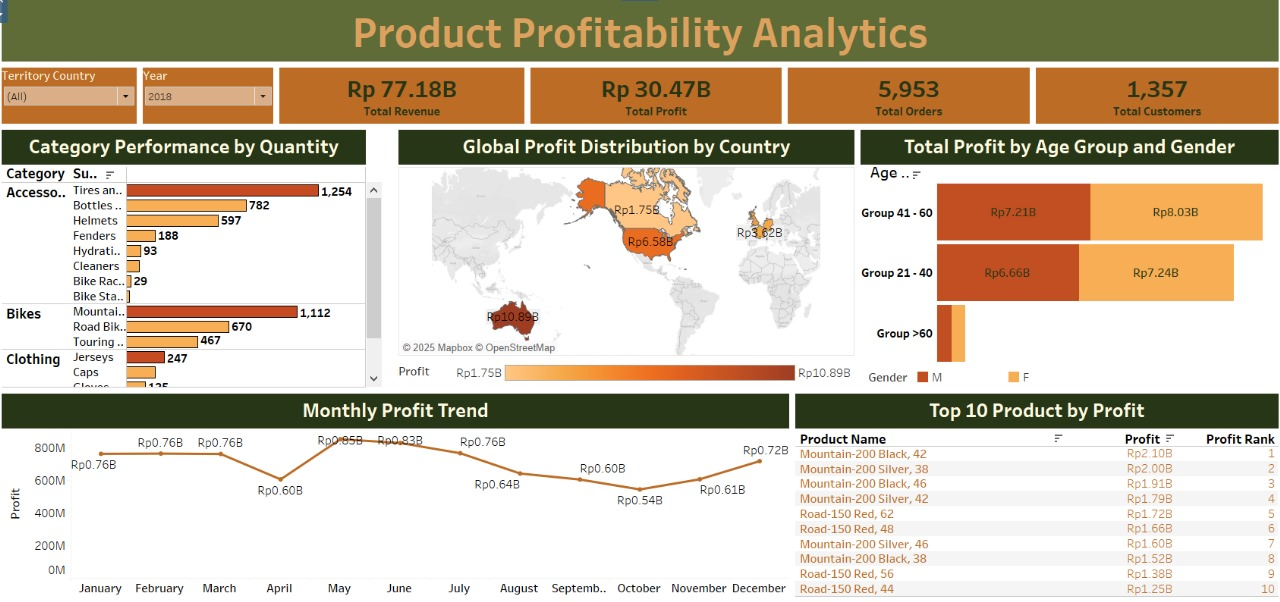

This screenshot's page, from the dashboard's own definition file:
{"tool":"tableau","page":{"name":"Product Profitability Analytics Dashboard","canvas":[1000,1000],"units":"permille","ordinal":0},"visuals":[{"type":"text","box":[4.8,9.9,990.3,109.7]},{"type":"filter","title":"Category Performance by Quantity","param":"[federated.0fi0alz0mt2qc01ex3sud0997vt8].[none:territory_country:nk]","box":[4.8,119.6,108.7,101.1]},{"type":"filter","title":"Monthly Sales Trend","param":"[federated.0fi0alz0mt2qc01ex3sud0997vt8].[none:Calculation_995014075531780099:ok","box":[113.5,119.6,105.7,101.1]},{"type":"text","box":[219.2,119.6,194.1,101.1]},{"type":"text","box":[413.4,119.6,198.3,101.1]},{"type":"text","box":[611.7,119.6,191.7,101.1]},{"type":"text","box":[803.4,119.6,191.8,101.1]},{"type":"worksheet","title":"Category Performance by Quantity","mark":"Automatic","rows":["category","sub_category"],"cols":["quantity"],"box":[4.8,220.7,306.4,429.1]},{"type":"worksheet","title":"Global Profit Distribution by Country","mark":"Automatic","box":[311.2,220.7,356.7,376.9]},{"type":"worksheet","title":"Total Profit by Age Group and Gender","mark":"Bar","rows":["Calculation_995014075527311361"],"cols":["Calculation_995014075528704002"],"box":[667.9,220.7,327.3,390.1]},{"type":"legend","title":"Global Profit Distribution by Country","param":"[federated.0fi0alz0mt2qc01ex3sud0997vt8].[sum:Calculation_995014075528704002:qk]","box":[311.2,597.6,356.7,52.2]},{"type":"legend","title":"Total Profit by Age Group and Gender","param":"[federated.0fi0alz0mt2qc01ex3sud0997vt8].[none:gender:nk]","box":[667.9,610.8,327.3,39]},{"type":"worksheet","title":"Monthly Sales Trend","mark":"Line","rows":["Calculation_995014075528704002"],"cols":["order_date"],"box":[4.8,649.8,612.8,340.4]},{"type":"worksheet","title":"Top 10 Product by Profit","mark":"Automatic","rows":["product_name"],"box":[617.6,649.8,377.5,340.4]}]}

Visuals, with their boxes on the dashboard's canvas, which has no fixed pixel size, in thousandths of its width and height (x1, y1, x2, y2). These are canvas units, not pixel positions in the 1280x602 screenshot, which may show the page scaled, cropped or inside an application window:
text: 5, 10, 995, 120
"Category Performance by Quantity" filter: 5, 120, 114, 221
"Monthly Sales Trend" filter: 114, 120, 219, 221
text: 219, 120, 413, 221
text: 413, 120, 612, 221
text: 612, 120, 803, 221
text: 803, 120, 995, 221
"Category Performance by Quantity" worksheet: 5, 221, 311, 650
"Global Profit Distribution by Country" worksheet: 311, 221, 668, 598
"Total Profit by Age Group and Gender" worksheet (Bar marks): 668, 221, 995, 611
"Global Profit Distribution by Country" legend: 311, 598, 668, 650
"Total Profit by Age Group and Gender" legend: 668, 611, 995, 650
"Monthly Sales Trend" worksheet (Line marks): 5, 650, 618, 990
"Top 10 Product by Profit" worksheet: 618, 650, 995, 990
